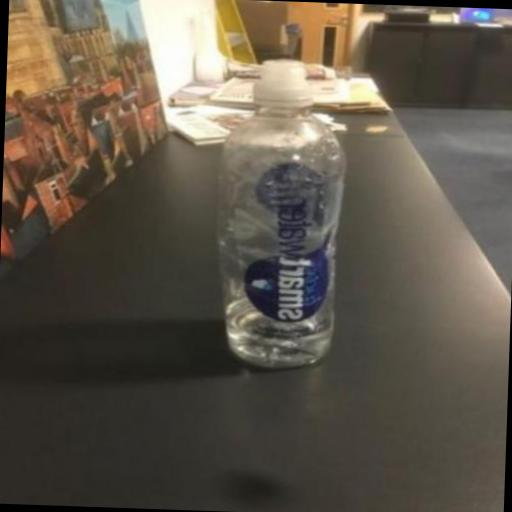Coca: (197, 48, 358, 376)
